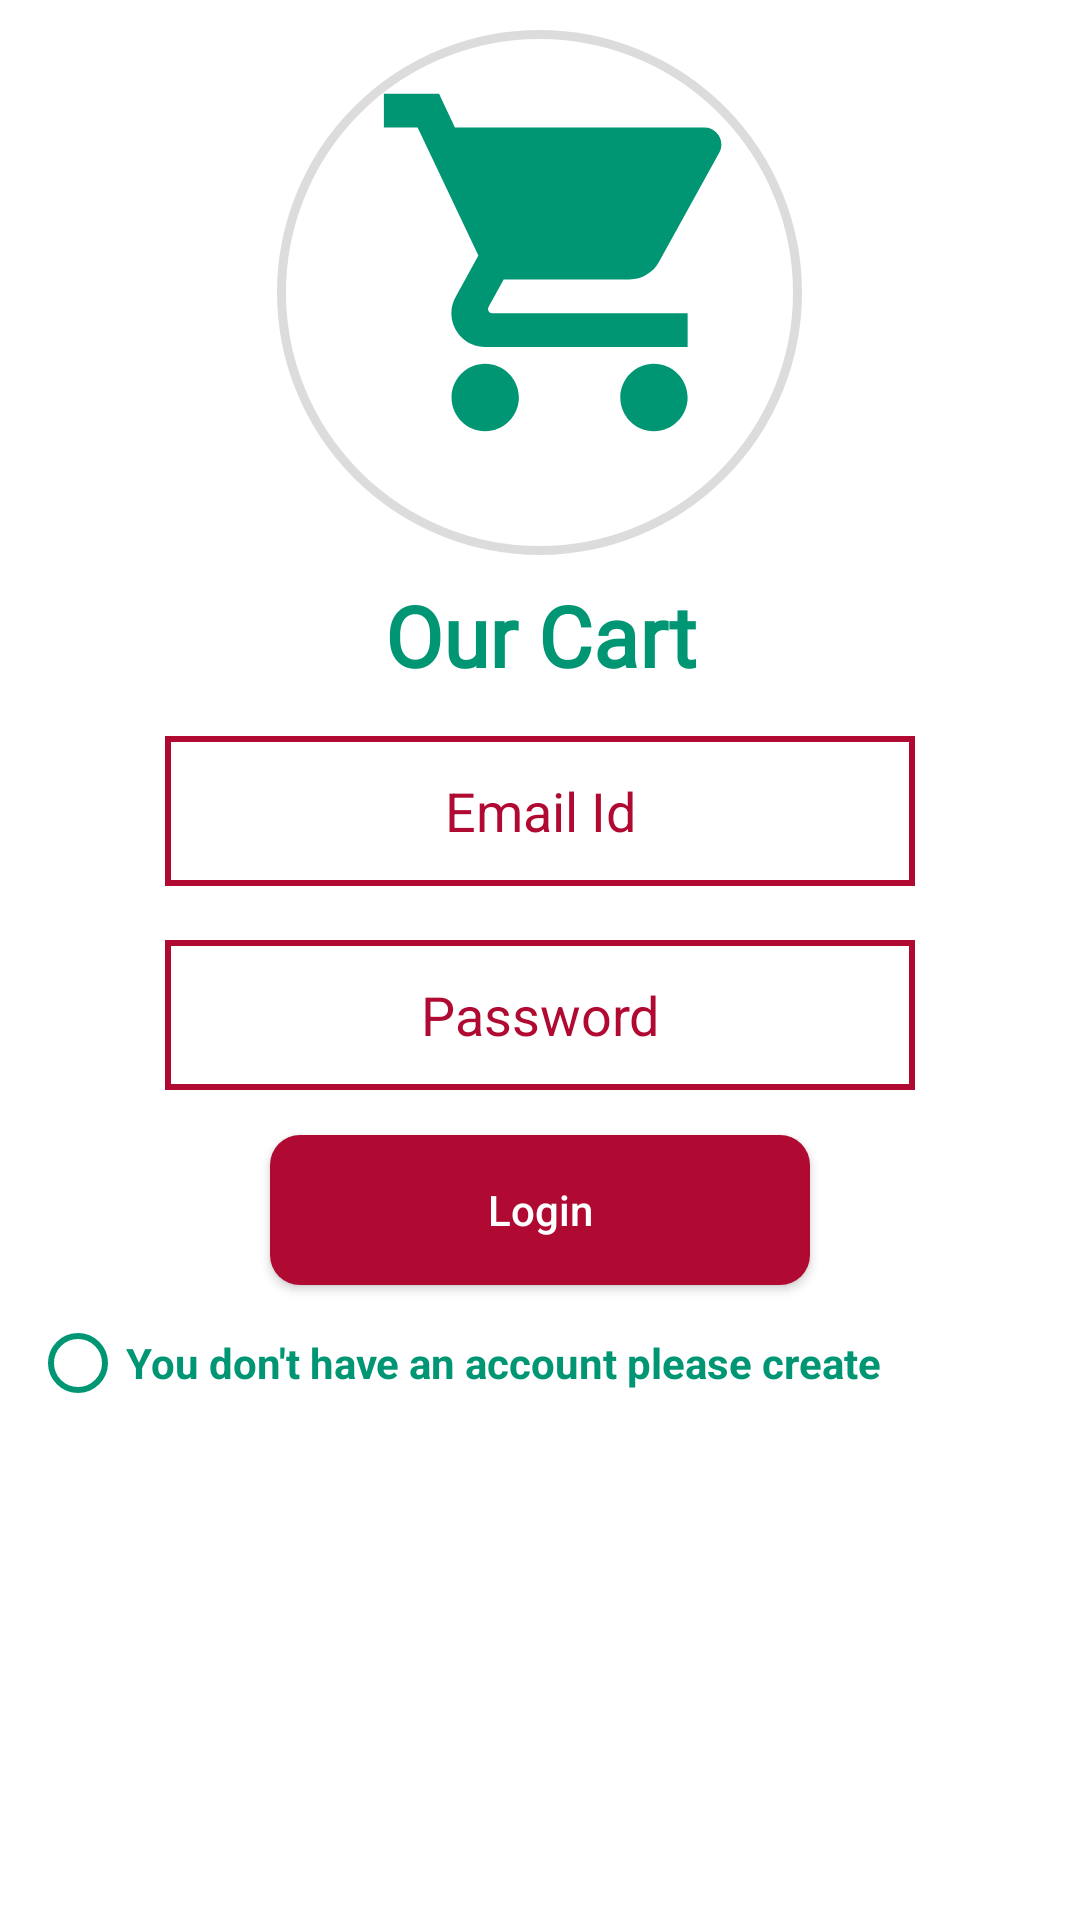

Locate icon controls on the screen. Image size 1080*1920, boxes as [x1,y1,x2,y2].
shopping cart: [383,93,722,432]
